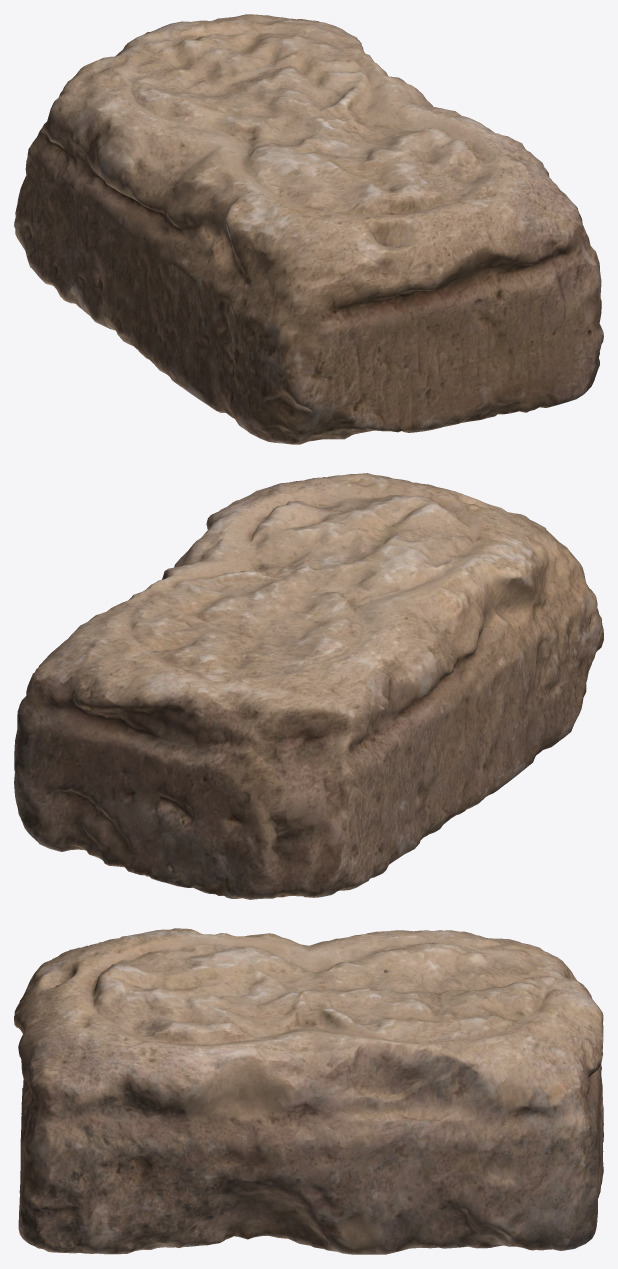
The picture shows the model from 3 angles, top to bottom: view 1: azimuth 30°, elevation 25°; view 2: azimuth 150°, elevation 25°; view 3: azimuth 270°, elevation 25°; orthographic projection. The views are drawn at different scales.
Visible parts, largest first — view 1: HS18_25K; view 2: HS18_25K; view 3: HS18_25K.
Part boxes in pixels (<box>): HS18_25K: <box>14,14,603,444</box>; HS18_25K: <box>14,473,603,899</box>; HS18_25K: <box>14,928,603,1254</box>.
Size of the model in its own units: 0.2124 by 0.131 by 0.3409.
1 material, 1 textured.
